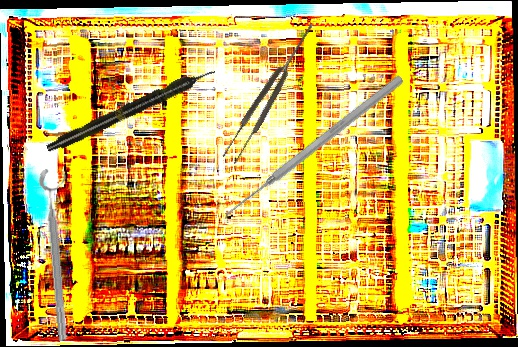Fixation Ring: (38, 167, 82, 342)
Handpiece: (44, 63, 218, 157)
Pusher: (220, 72, 406, 222)
Tissue Forceps: (220, 20, 321, 165)
